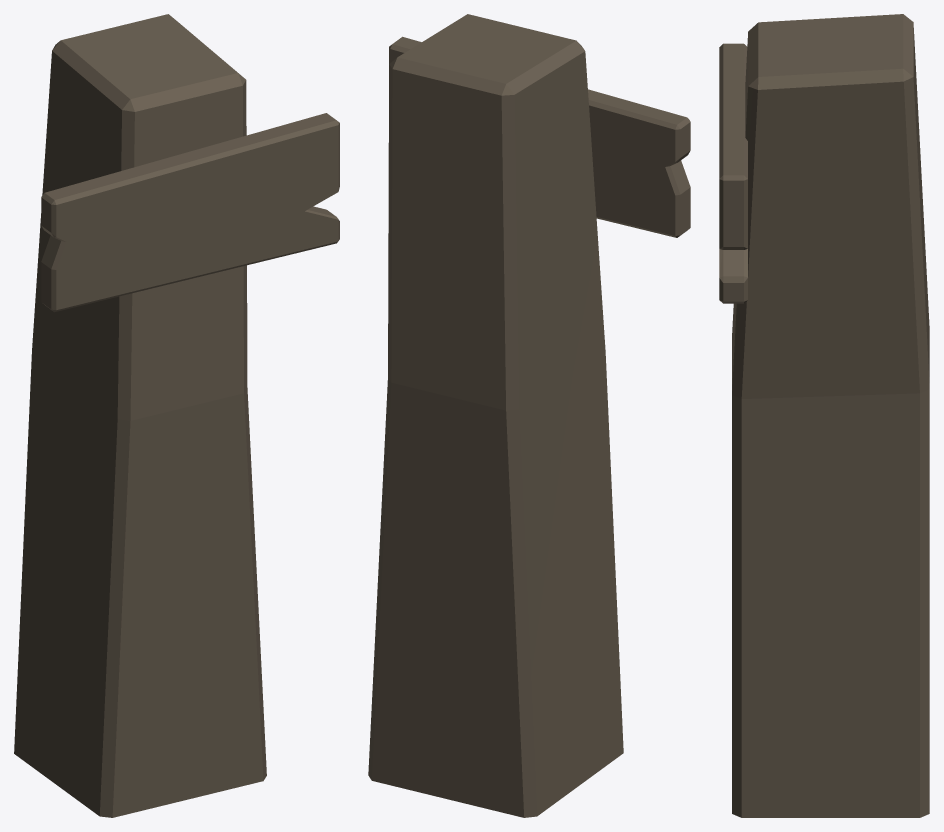
The model's file is Signpost_02.glb.
3 renders of one model, left to right at view 1: azimuth 30°, elevation 25°; view 2: azimuth 150°, elevation 25°; view 3: azimuth 270°, elevation 25°, orthographic. The views are drawn at different scales.
Parts seen in each view (by area): view 1: Signpost_02; view 2: Signpost_02; view 3: Signpost_02.
Boxes of the visible parts, left/top/right/bottom form: Signpost_02: left=14, top=14, right=339, bottom=817; Signpost_02: left=368, top=14, right=690, bottom=817; Signpost_02: left=719, top=14, right=929, bottom=817.
Bounding box in the file's own units: 0.3544 × 0.8328 × 0.2152.
Materials: 1 (1 with a texture image).
